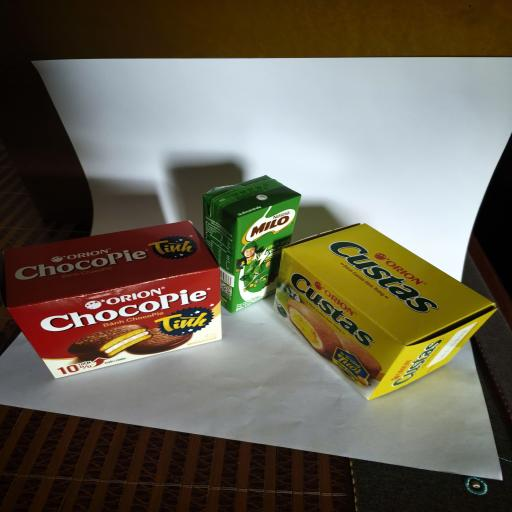chocopie: (2, 220, 223, 379)
custas: (272, 223, 498, 400)
milo: (202, 175, 301, 314)
